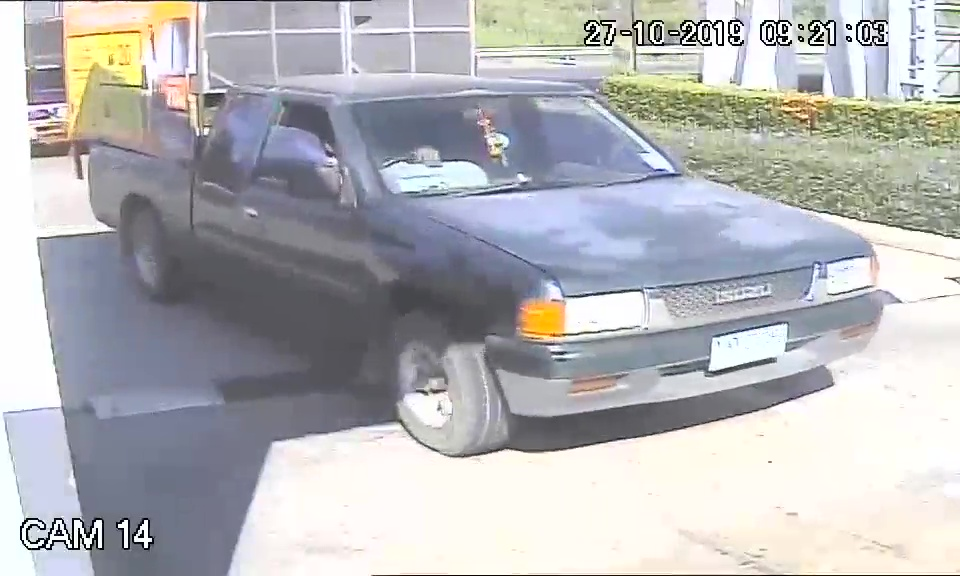pickup: (81, 64, 891, 454)
